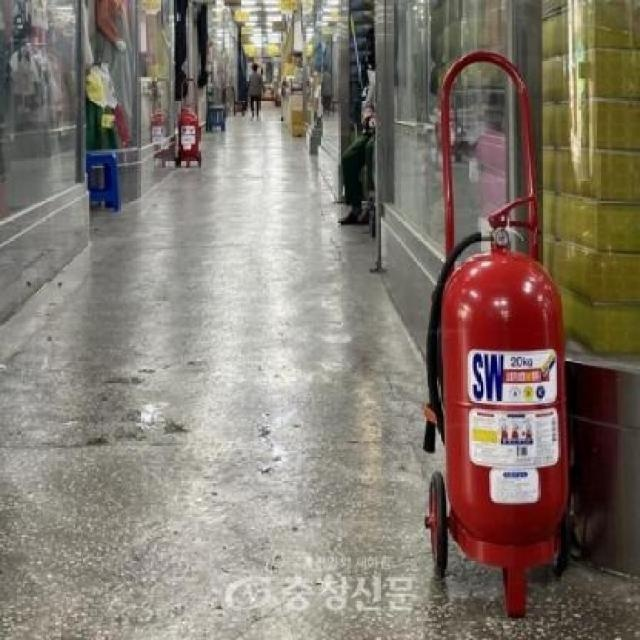fire extinguisher: (422, 191, 570, 545), (177, 101, 198, 155)
